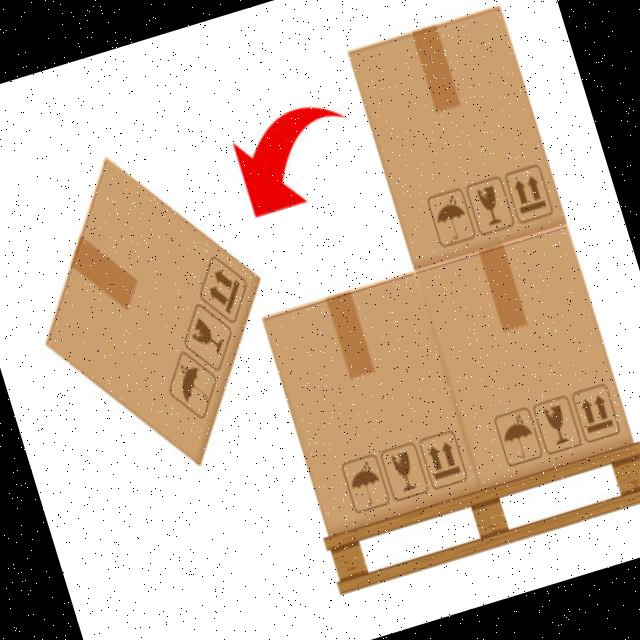Wooden-Pallets: (316, 434, 640, 597)
